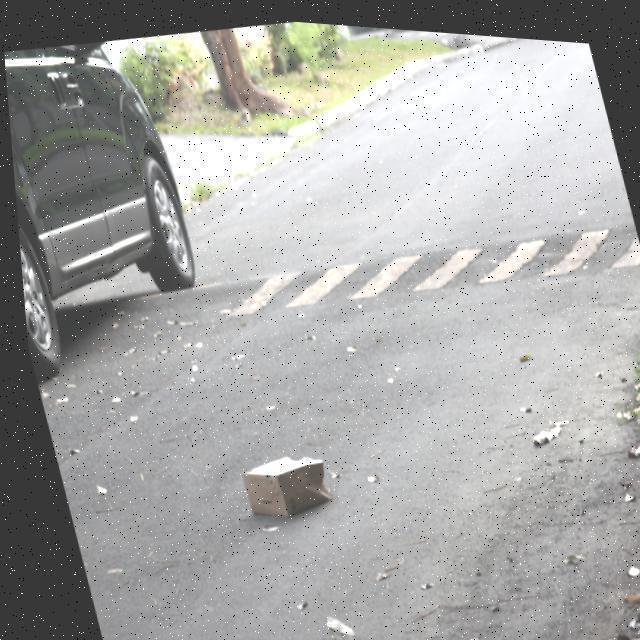Paper_Bag: (229, 442, 330, 523)
